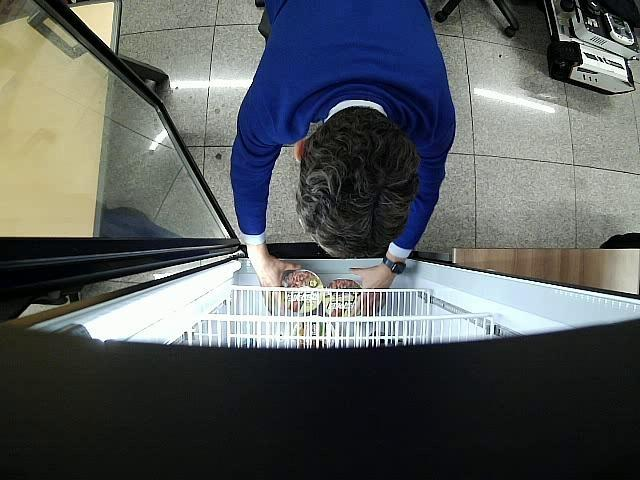03_chapagetti_L: (280, 270, 322, 313), (322, 278, 362, 317)
